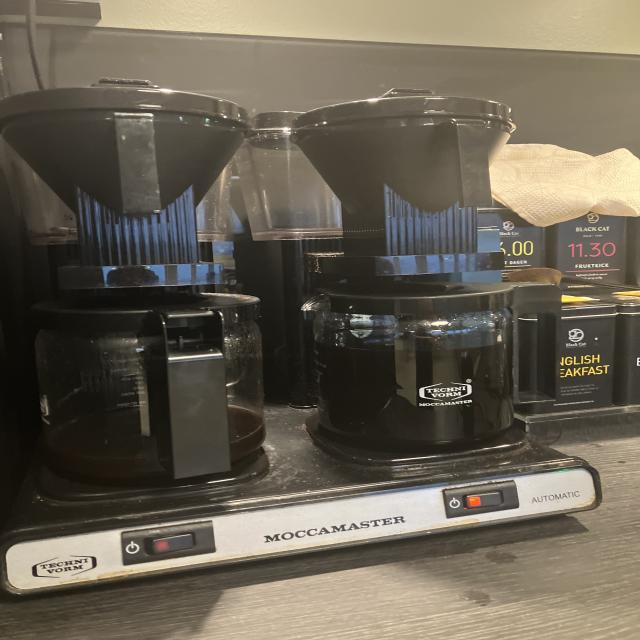coffee: (0, 283, 274, 485), (306, 279, 523, 446)
